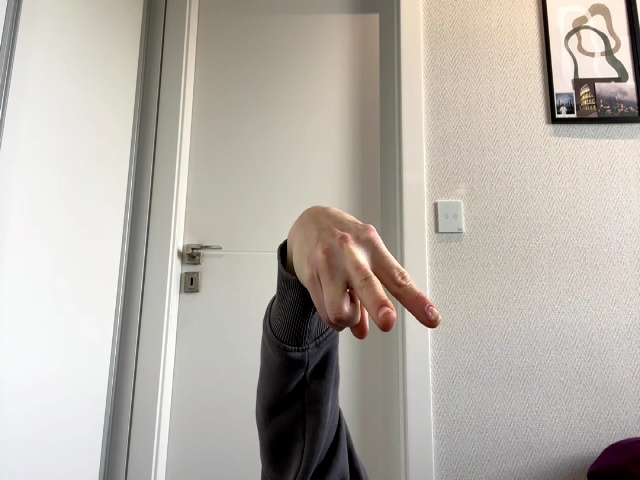U: (288, 206, 442, 340)
